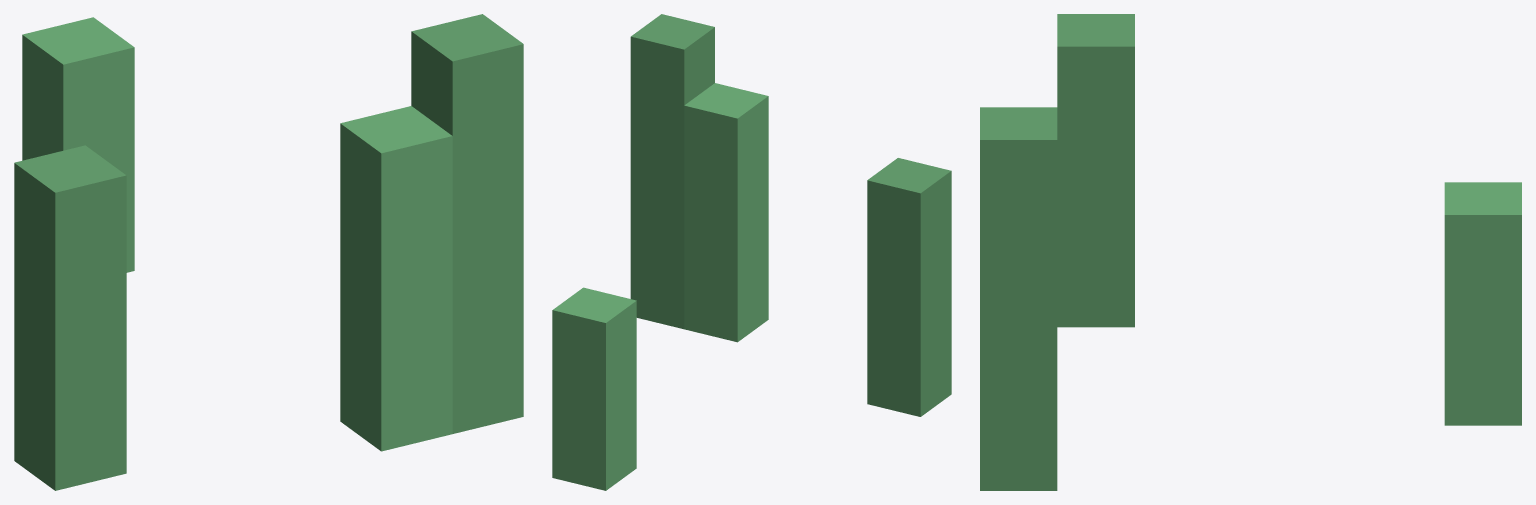
The model's file is mata_de_hojas_anchas_03.glb.
The picture shows the model from 3 angles, left to right: view 1: azimuth 30°, elevation 25°; view 2: azimuth 150°, elevation 25°; view 3: azimuth 270°, elevation 25°; orthographic projection. The views are drawn at different scales.
Visible parts, largest first — view 1: mata_de_hojas_anchas_03; view 2: mata_de_hojas_anchas_03; view 3: mata_de_hojas_anchas_03.
Part boxes in pixels (x1,y1,x2,y2): mata_de_hojas_anchas_03: [14, 14, 523, 490]; mata_de_hojas_anchas_03: [552, 14, 951, 490]; mata_de_hojas_anchas_03: [980, 14, 1521, 490].
Size of the model in its own units: 0.6 by 0.5 by 0.7.
